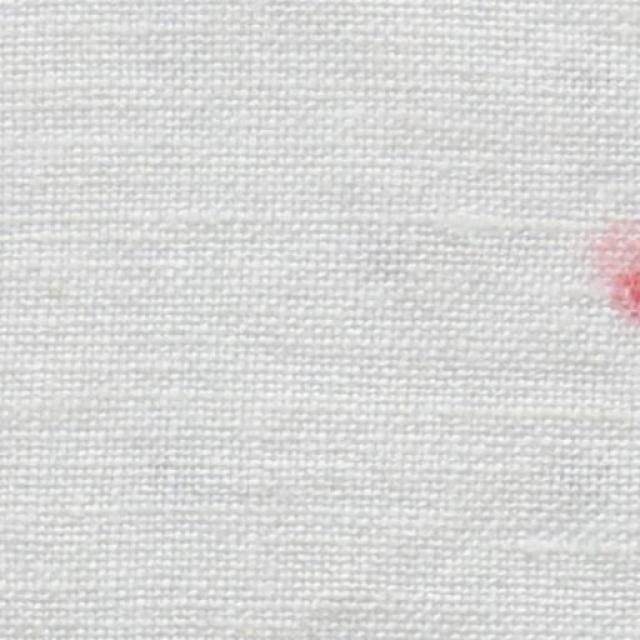Stain: (595, 222, 640, 323)
